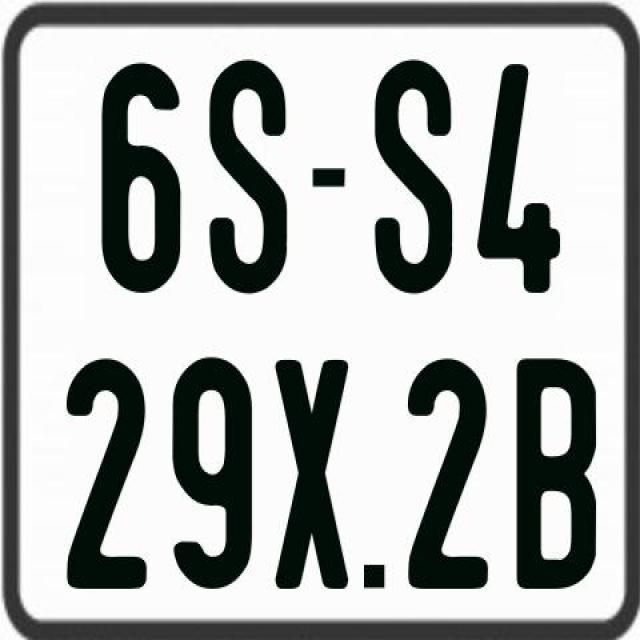2: (64, 355, 150, 586), (405, 354, 488, 586)
4: (476, 59, 566, 294)
6: (98, 64, 178, 296)
9: (168, 352, 256, 586)
B: (516, 356, 600, 588)
S: (374, 54, 454, 293), (207, 59, 286, 301)
X: (276, 357, 355, 587)
